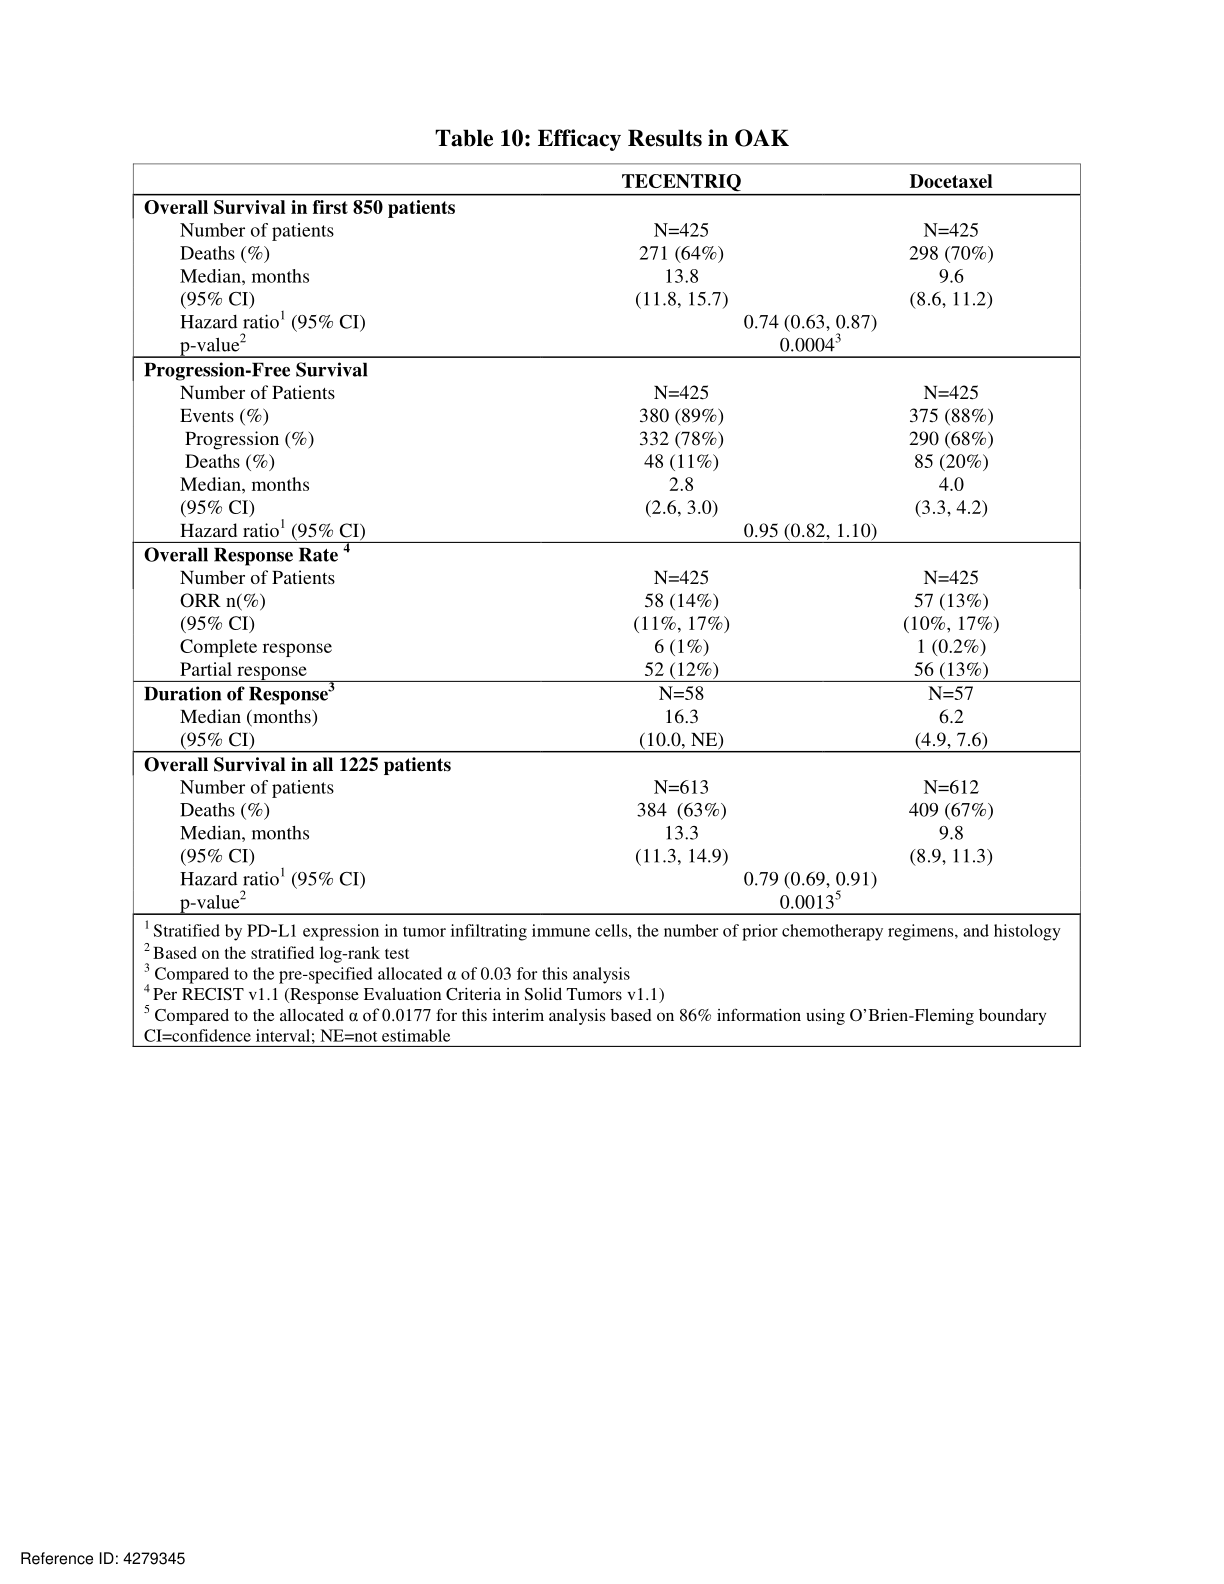partial_lined: (130, 159, 1084, 918)
